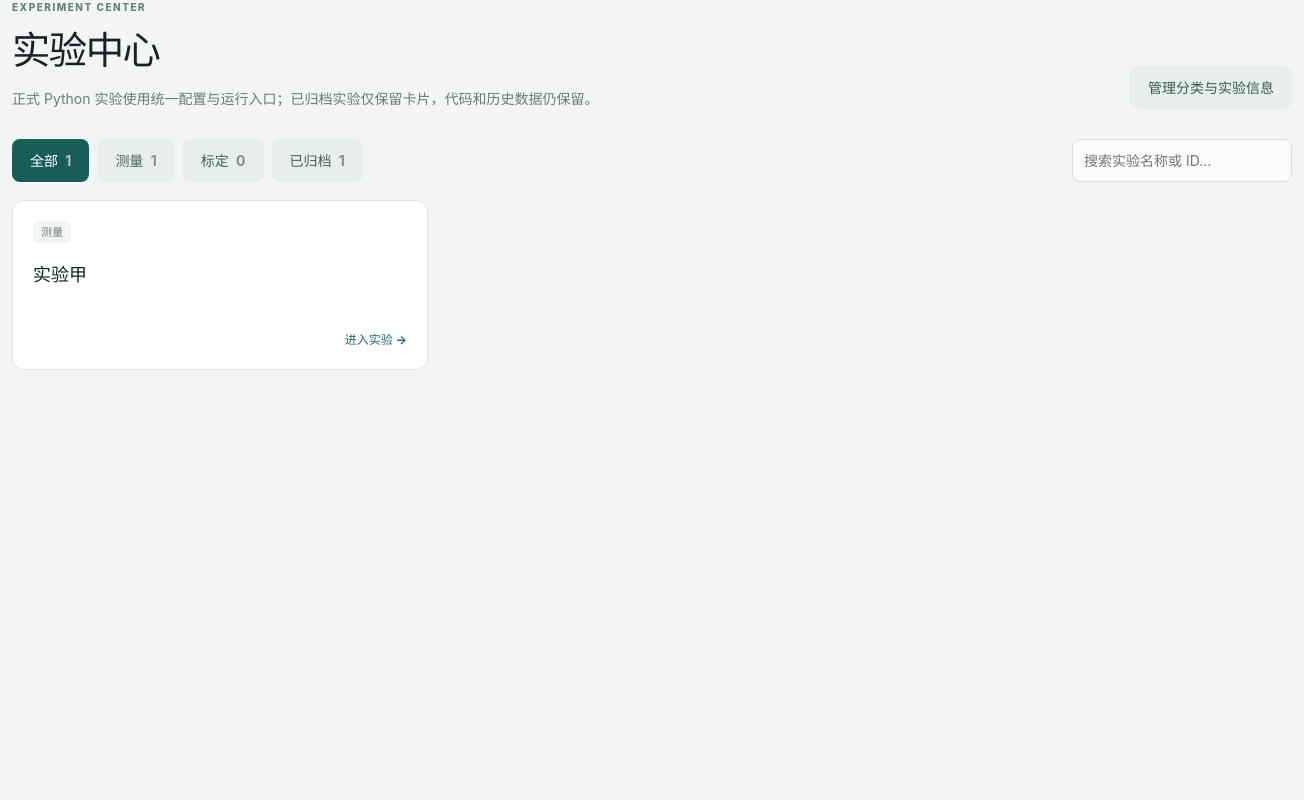
Test: 实验中心可逆归档 › 保存失败不移除卡片或改变计数
Check: the heading "实验甲" is shown, box [33,264,87,285]
Click the button "管理分类与实验信息".
click(1211, 87)  # box [1130,66,1292,109]
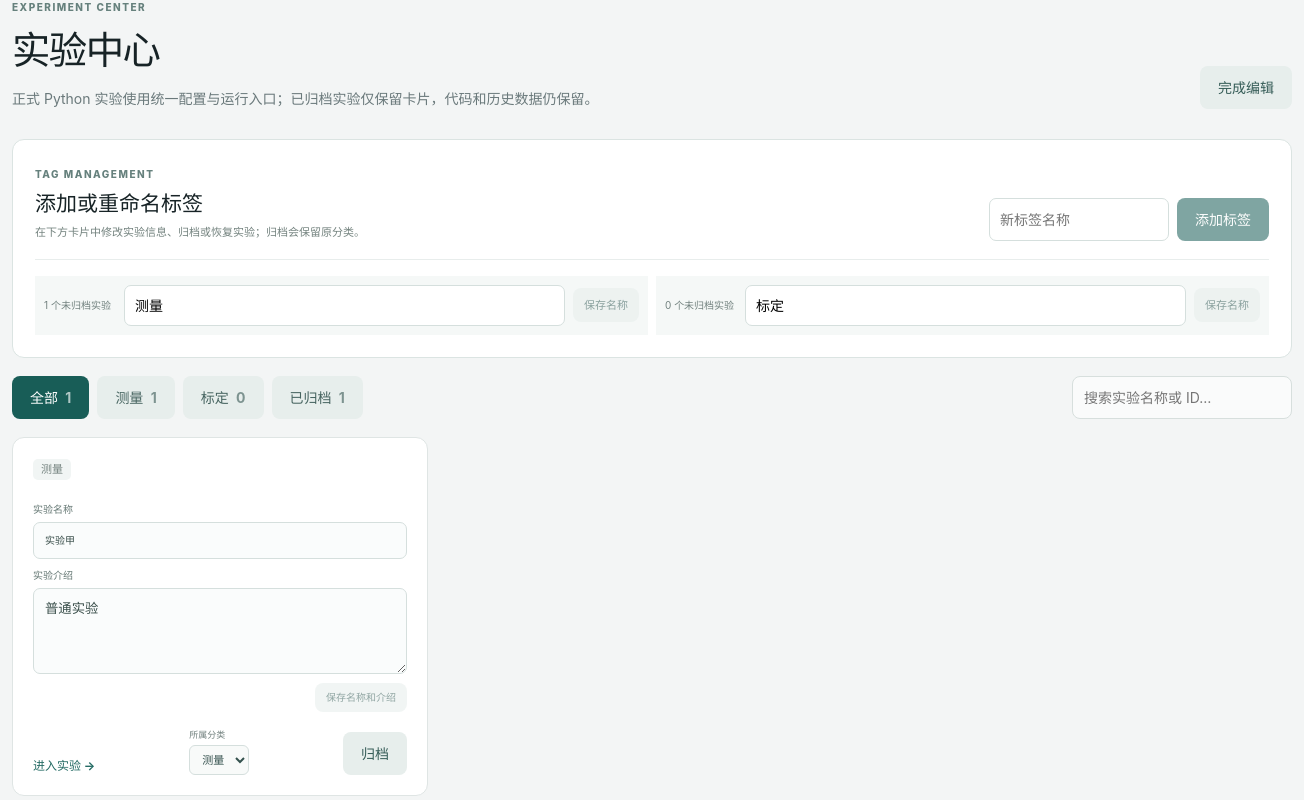
Click the button with aria-label "归档实验甲".
click(375, 754)  # box [343,732,407,775]
(page scrolled)
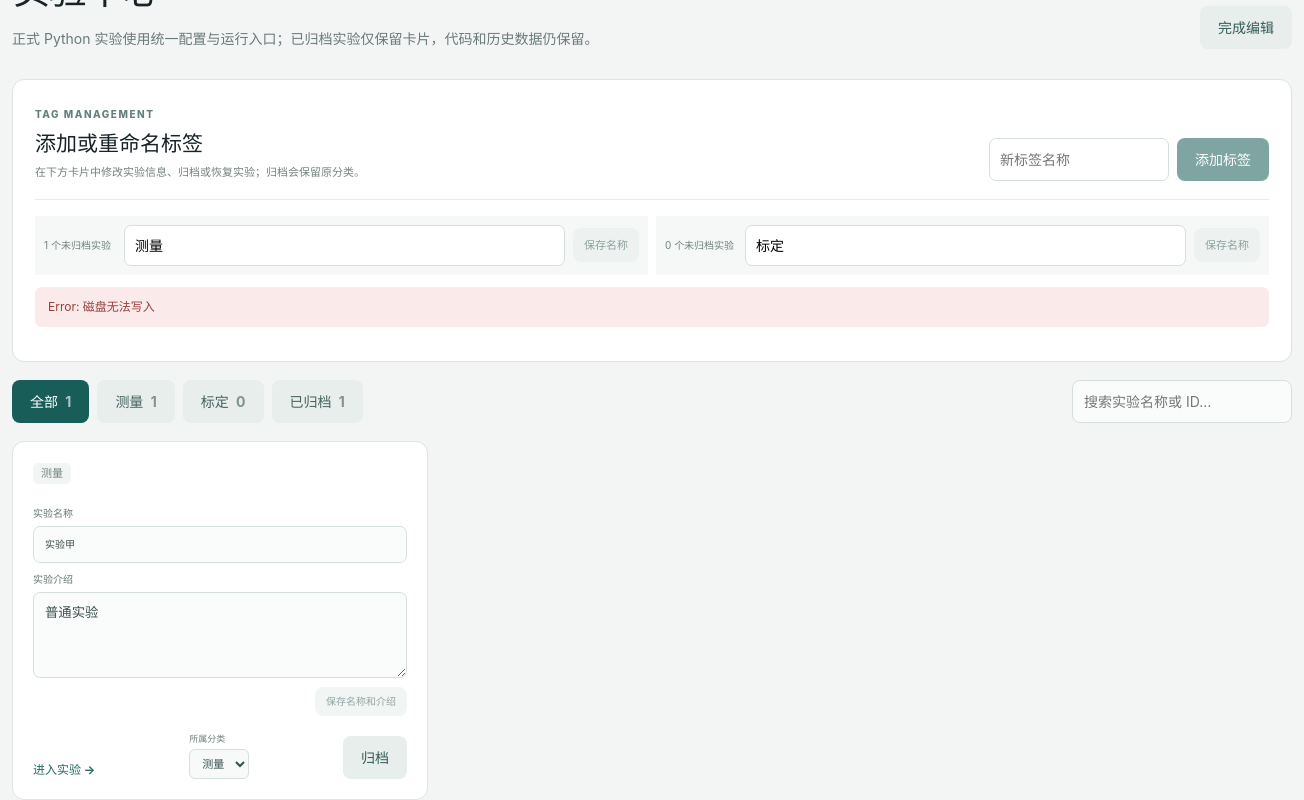
Check: the field named "实验甲名称" is shown, box [33,526,407,563]
Check: the button with aria-label "归档实验甲" is enabled, box [343,736,407,779]
Check: the text "Error: 磁盘无法写入" is shown, box [35,287,1269,327]
